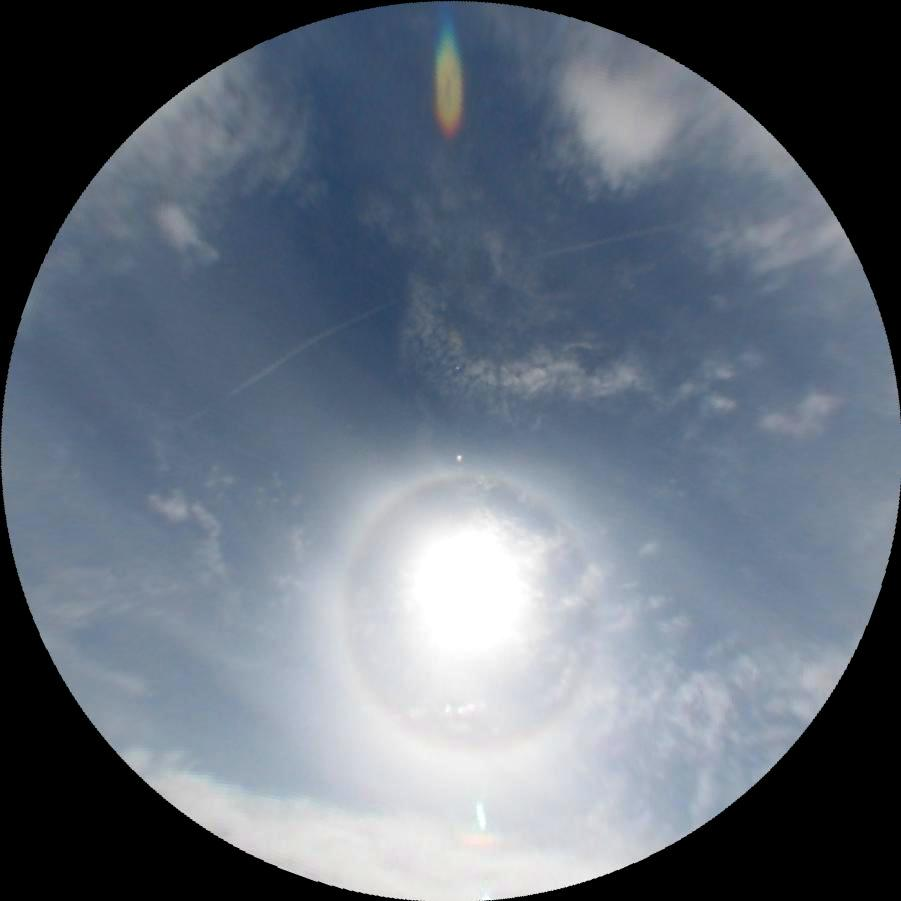contrail young: (166, 188, 689, 426)
sun: (398, 515, 540, 661)
